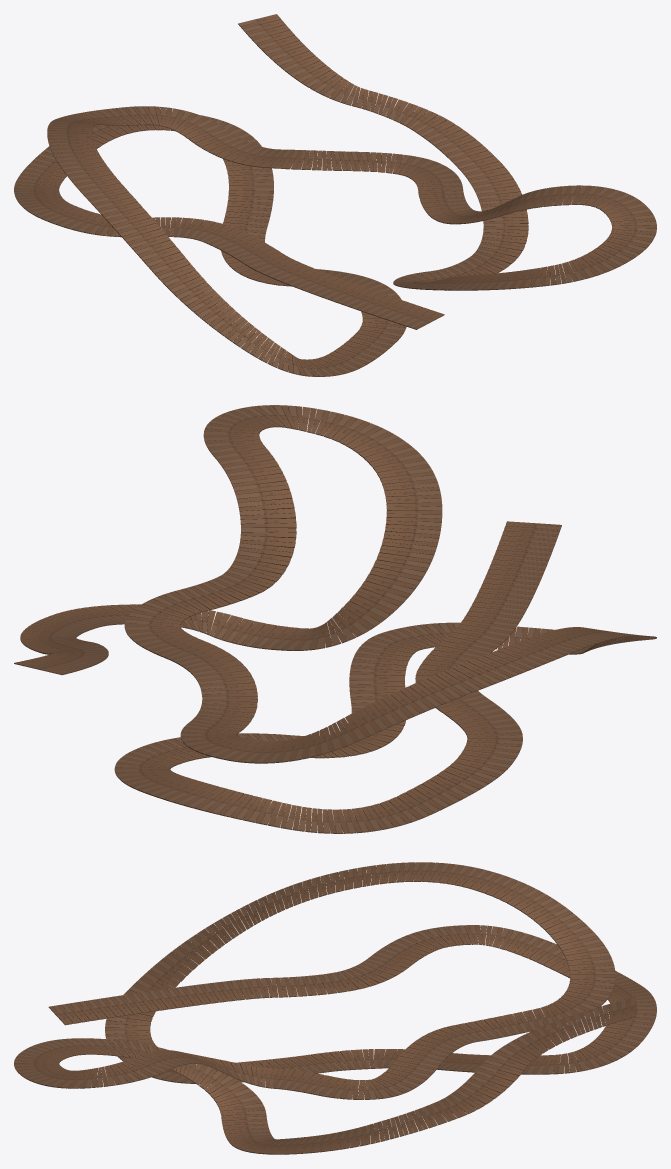
The model's file is Pista.fbx.
The picture shows the model from 3 angles, top to bottom: view 1: azimuth 30°, elevation 25°; view 2: azimuth 150°, elevation 25°; view 3: azimuth 270°, elevation 25°; orthographic projection. The views are drawn at different scales.
Parts seen in each view (by area): view 1: Plane.020; view 2: Plane.020; view 3: Plane.020.
Part boxes in pixels (left/top/right/bottom): Plane.020: left=14, top=14, right=656, bottom=376; Plane.020: left=14, top=405, right=656, bottom=833; Plane.020: left=14, top=862, right=656, bottom=1154.
Size of the model in its own units: 23052 by 6288 by 30056.
